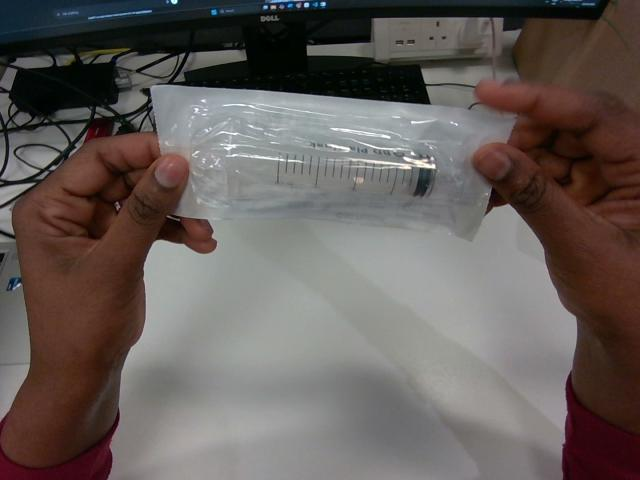syringe: (152, 86, 513, 238)
